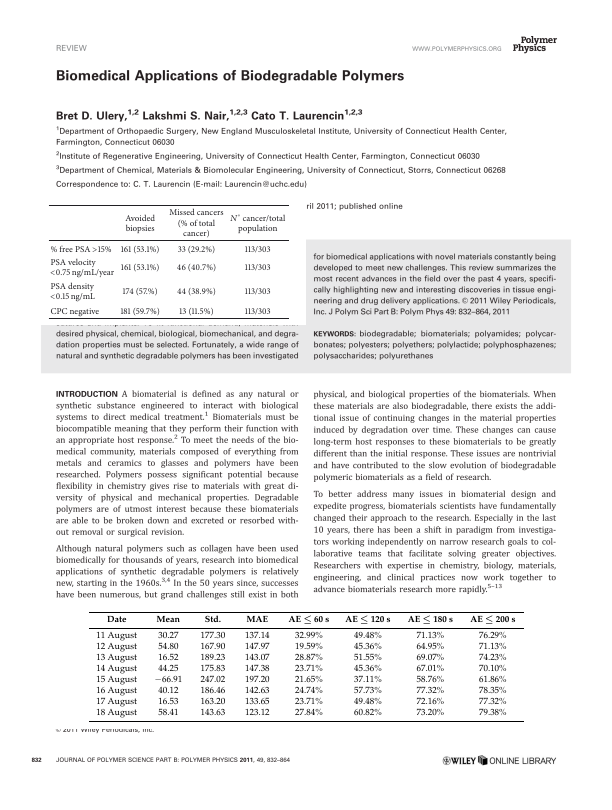borderless: (88, 610, 524, 721), (47, 203, 289, 318)
cell: (168, 208, 225, 239), (49, 257, 115, 280), (229, 209, 286, 234), (49, 281, 96, 304), (49, 240, 113, 256), (124, 213, 156, 234), (49, 306, 100, 317), (344, 615, 391, 625), (406, 615, 453, 625), (469, 615, 516, 625), (119, 306, 161, 317), (95, 631, 137, 642), (95, 642, 137, 653), (95, 653, 137, 664), (95, 664, 137, 675), (95, 675, 137, 686), (95, 686, 137, 697), (95, 697, 137, 708), (95, 708, 137, 719), (176, 262, 217, 273), (176, 286, 217, 297), (120, 262, 160, 273), (287, 615, 330, 625), (122, 286, 159, 297), (178, 306, 215, 317), (120, 244, 160, 254), (177, 244, 216, 254), (352, 631, 382, 642), (415, 631, 445, 642), (477, 631, 507, 642), (352, 642, 382, 653), (415, 642, 445, 653), (477, 642, 507, 653), (352, 653, 382, 664), (415, 653, 445, 664), (477, 653, 507, 664), (352, 664, 382, 675), (415, 664, 445, 675), (477, 664, 507, 675), (153, 675, 183, 686), (352, 675, 382, 686), (415, 675, 445, 686), (477, 675, 507, 686), (352, 686, 382, 697), (415, 686, 445, 697), (477, 686, 507, 697), (352, 697, 382, 708), (415, 697, 445, 708), (477, 697, 507, 708), (352, 708, 382, 719), (415, 708, 445, 719), (477, 708, 507, 719), (294, 631, 323, 642), (294, 642, 323, 653), (294, 653, 323, 664), (294, 664, 323, 675), (294, 675, 323, 686), (294, 686, 323, 697), (294, 697, 323, 708), (294, 708, 323, 719), (244, 262, 272, 273), (244, 286, 272, 297), (244, 306, 272, 317), (199, 631, 226, 642), (243, 631, 270, 642), (199, 642, 226, 653), (243, 642, 270, 653), (199, 653, 226, 664), (243, 653, 270, 664), (199, 664, 226, 675), (243, 664, 270, 675), (199, 675, 226, 686), (243, 675, 270, 686), (199, 686, 226, 697), (243, 686, 270, 697), (199, 697, 226, 708), (243, 697, 270, 708), (199, 708, 226, 719), (243, 708, 270, 719), (244, 244, 272, 254), (157, 631, 179, 642), (157, 642, 179, 653), (157, 653, 179, 664), (157, 664, 179, 675), (157, 686, 179, 697), (157, 697, 179, 708), (157, 708, 179, 719), (155, 615, 181, 623), (245, 615, 268, 623), (105, 615, 127, 623), (203, 615, 221, 623)
